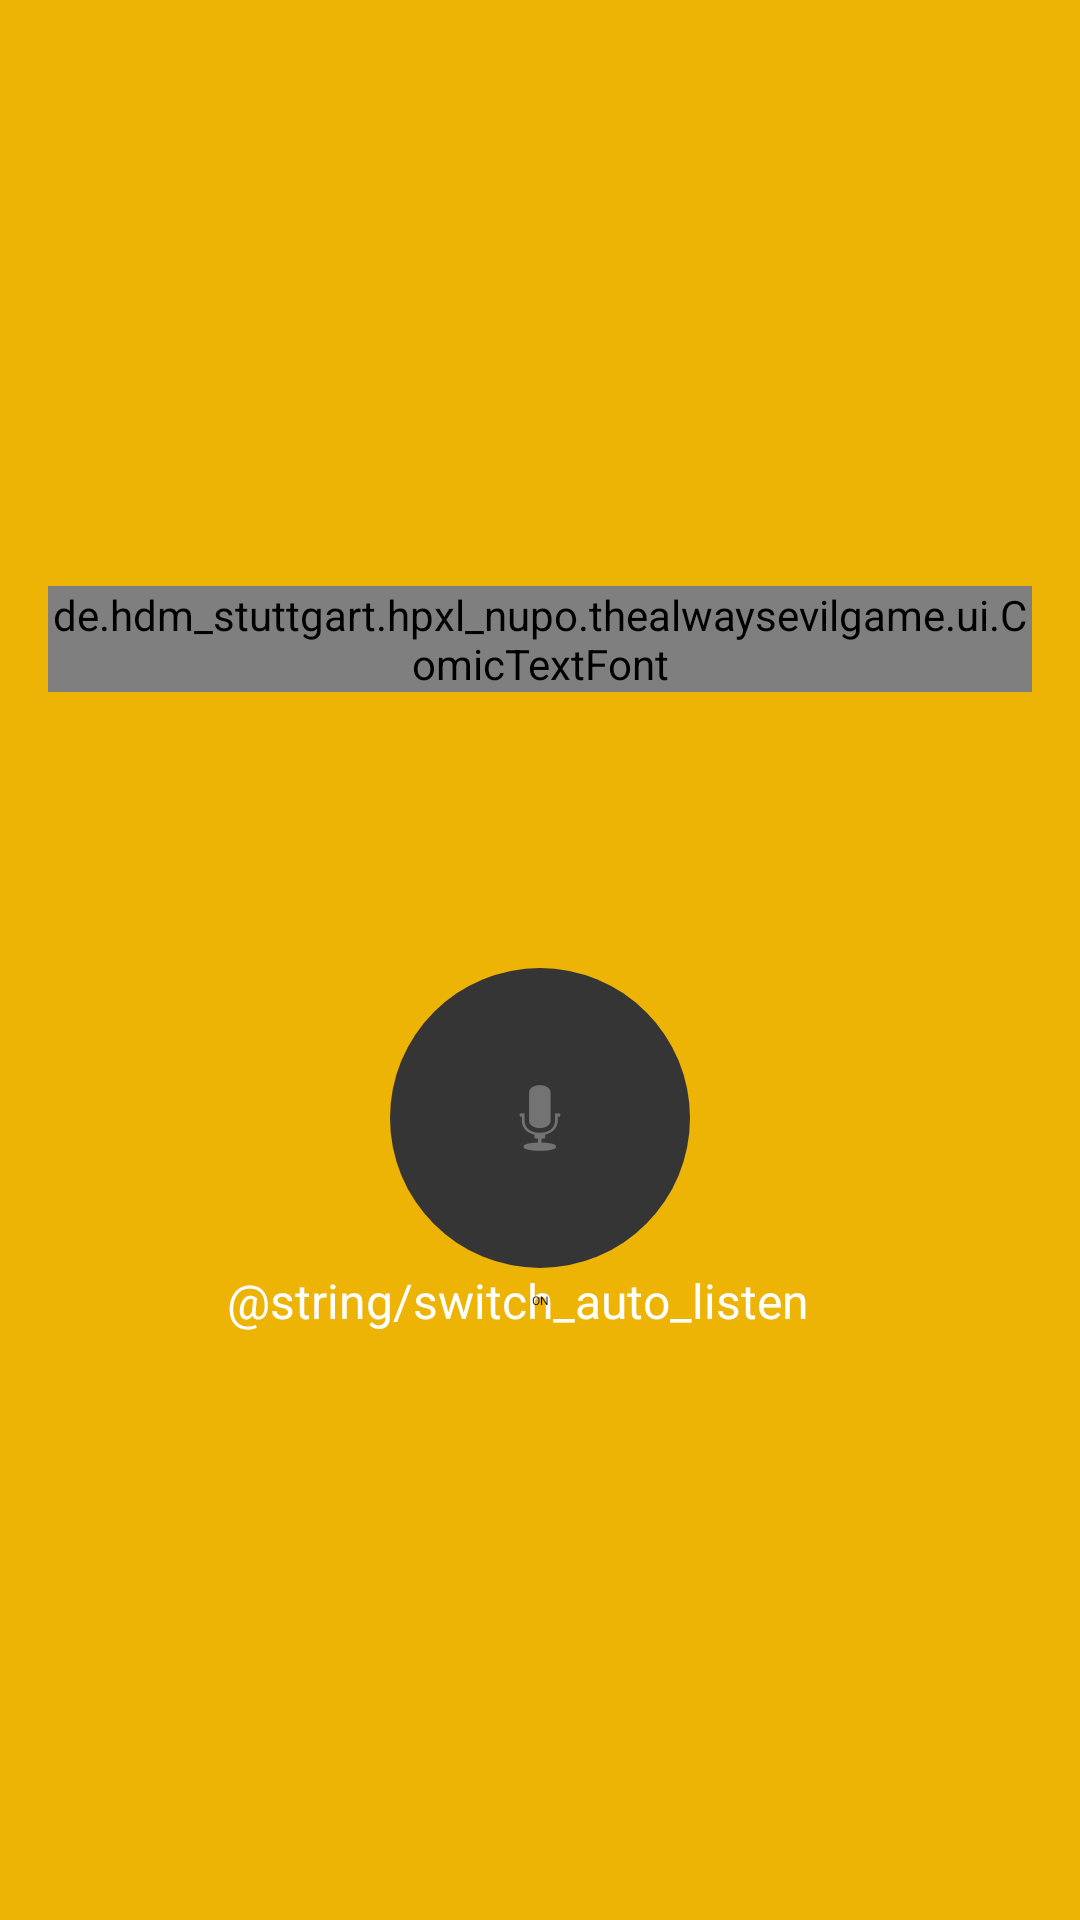

Point at icon controls on the screen. Image size 1080x1920, points as [x,y].
speak now: [540,1118]
